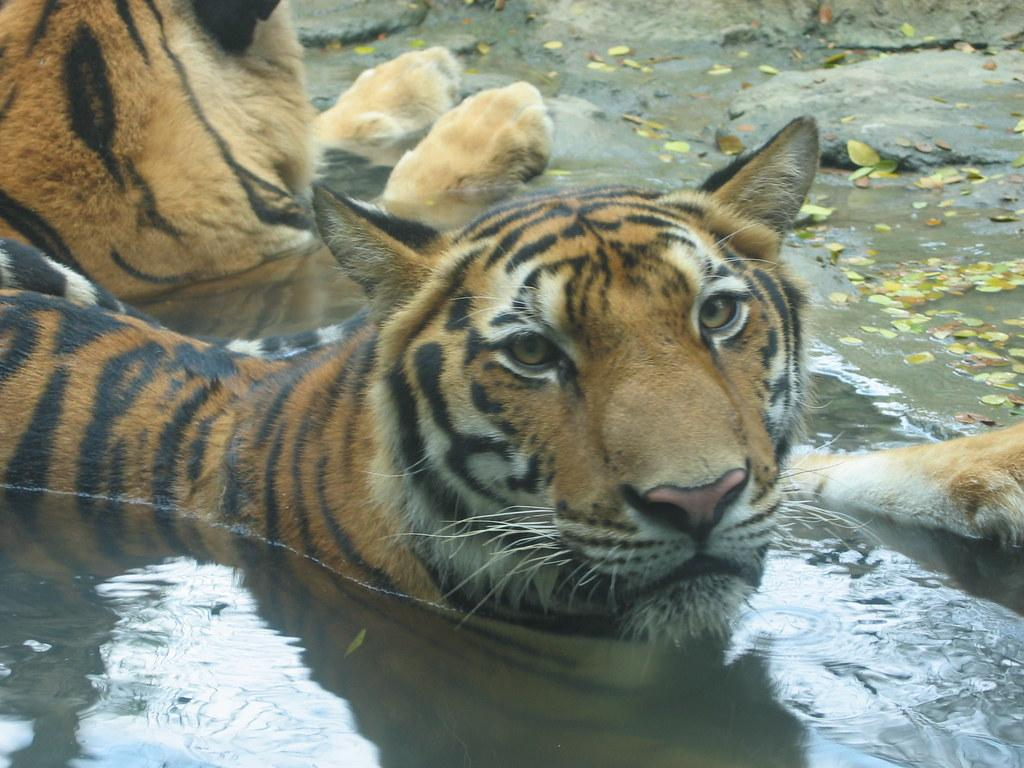tiger: (2, 47, 1022, 653), (1, 1, 554, 330)
